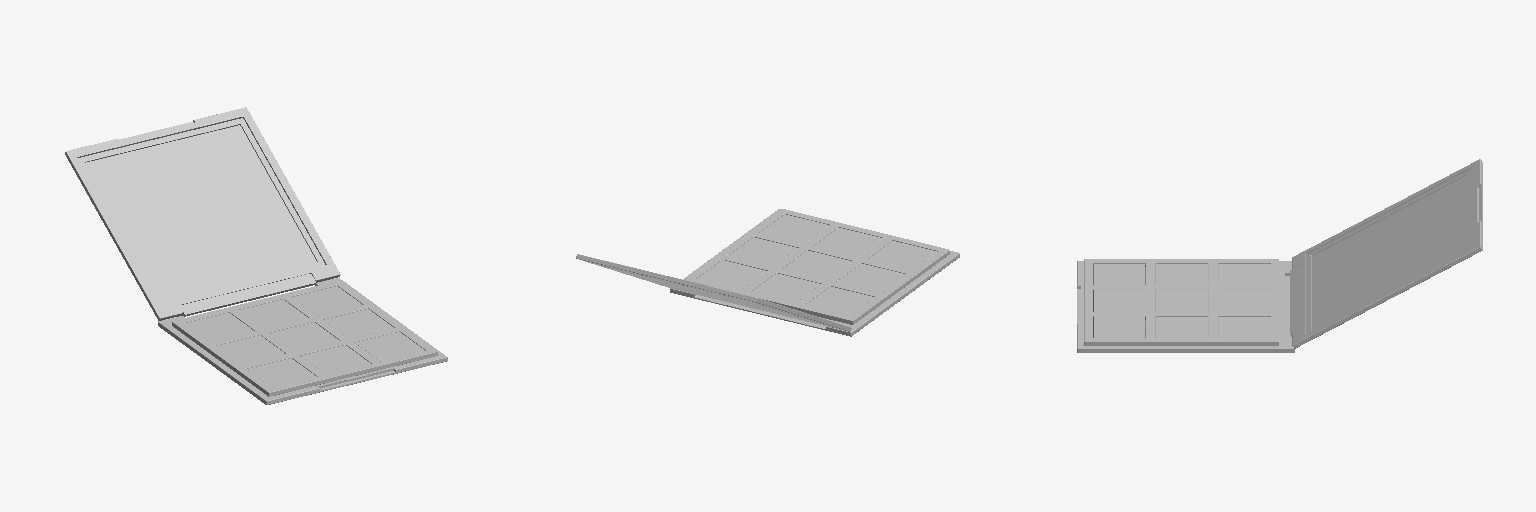
File: uploads_files_5168538_eye+shadow.obj
The picture shows the model from 3 angles: view 1: azimuth 30°, elevation 25°; view 2: azimuth 150°, elevation 25°; view 3: azimuth 270°, elevation 25°; orthographic projection.
Visible parts, largest first — view 1: Case_archril_Mesh, cap_Mesh, Bottom_plat_Mesh, shadow.004_Mesh, shadow.009_Mesh, shadow.001_Mesh, shadow.002_Mesh, shadow.003_Mesh, shadow.005_Mesh, shadow.007_Mesh, shadow.006_Mesh, shadow.008_Mesh; view 2: Bottom_plat_Mesh, cap_Mesh, shadow.004_Mesh, shadow.009_Mesh, Case_archril_Mesh, shadow.001_Mesh, shadow.002_Mesh, shadow.003_Mesh, shadow.006_Mesh, shadow.007_Mesh, shadow.008_Mesh, shadow.005_Mesh; view 3: Case_archril_Mesh, Bottom_plat_Mesh, cap_Mesh, shadow.002_Mesh, shadow.005_Mesh, shadow.008_Mesh, shadow.009_Mesh, shadow.001_Mesh, shadow.003_Mesh, shadow.004_Mesh, shadow.006_Mesh, shadow.007_Mesh.
Part boxes in pixels (x1,y1,x2,y2): Case_archril_Mesh: (85, 125, 317, 300); cap_Mesh: (65, 107, 340, 320); Bottom_plat_Mesh: (158, 278, 447, 404); shadow.004_Mesh: (216, 335, 284, 364); shadow.009_Mesh: (356, 332, 424, 361); shadow.001_Mesh: (184, 313, 253, 341); shadow.002_Mesh: (239, 299, 307, 328); shadow.003_Mesh: (293, 286, 361, 315); shadow.005_Mesh: (270, 322, 338, 351); shadow.007_Mesh: (247, 358, 316, 387); shadow.006_Mesh: (324, 309, 393, 338); shadow.008_Mesh: (301, 345, 370, 374); Bottom_plat_Mesh: (670, 209, 959, 336); cap_Mesh: (576, 254, 851, 331); shadow.004_Mesh: (837, 264, 906, 292); shadow.009_Mesh: (760, 214, 828, 243); Case_archril_Mesh: (586, 261, 833, 327); shadow.001_Mesh: (806, 286, 874, 315); shadow.002_Mesh: (751, 273, 820, 302); shadow.003_Mesh: (697, 260, 766, 289); shadow.006_Mesh: (729, 237, 797, 266); shadow.007_Mesh: (868, 241, 936, 269); shadow.008_Mesh: (814, 228, 883, 256); shadow.005_Mesh: (783, 251, 851, 279); Case_archril_Mesh: (1312, 176, 1466, 330); Bottom_plat_Mesh: (1077, 259, 1294, 352); cap_Mesh: (1290, 159, 1482, 348); shadow.002_Mesh: (1218, 290, 1269, 311); shadow.005_Mesh: (1156, 290, 1207, 311); shadow.008_Mesh: (1093, 290, 1144, 311); shadow.009_Mesh: (1093, 316, 1144, 337); shadow.001_Mesh: (1218, 264, 1269, 284); shadow.003_Mesh: (1218, 317, 1269, 337); shadow.004_Mesh: (1156, 264, 1207, 284); shadow.006_Mesh: (1156, 317, 1207, 337); shadow.007_Mesh: (1093, 264, 1144, 284).
Bounding box in the file's own units: 3.46 × 1.94 × 6.67.